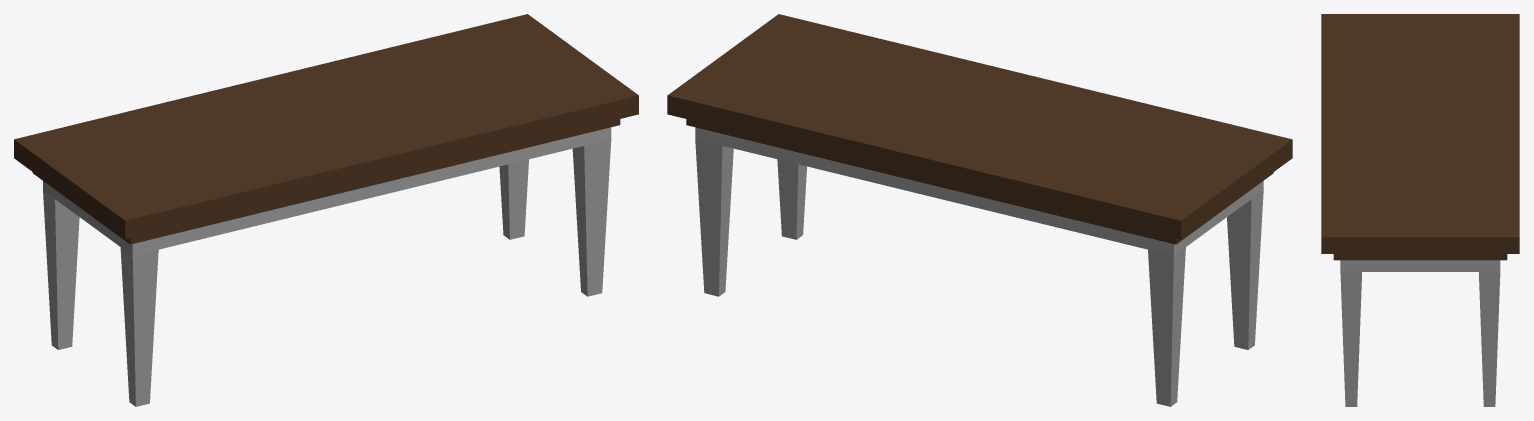
File: Table.glb
The picture shows the model from 3 angles, left to right: view 1: azimuth 30°, elevation 25°; view 2: azimuth 150°, elevation 25°; view 3: azimuth 270°, elevation 25°; orthographic projection. The views are drawn at different scales.
Visible parts, largest first — view 1: Table; view 2: Table; view 3: Table.
Part boxes in pixels (x1=…): Table: x1=14, y1=14, x2=638, y2=406; Table: x1=667, y1=14, x2=1292, y2=406; Table: x1=1321, y1=14, x2=1519, y2=406.
Size of the model in its own units: 2.71 by 1.02 by 1.02.
